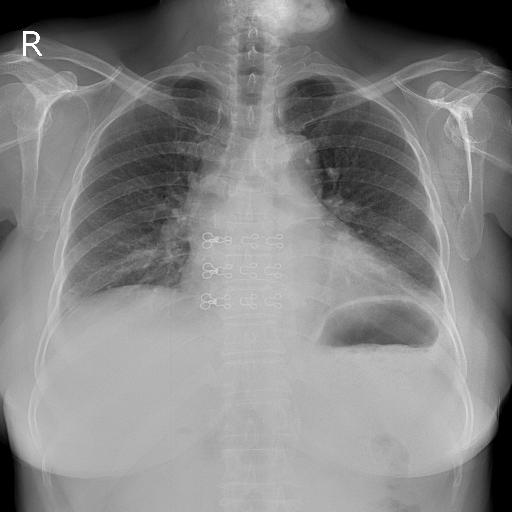Aortic enlargement: (222, 98, 290, 170)
Cardiomegaly: (59, 220, 297, 284)
Pleural thickening: (272, 68, 324, 78)
